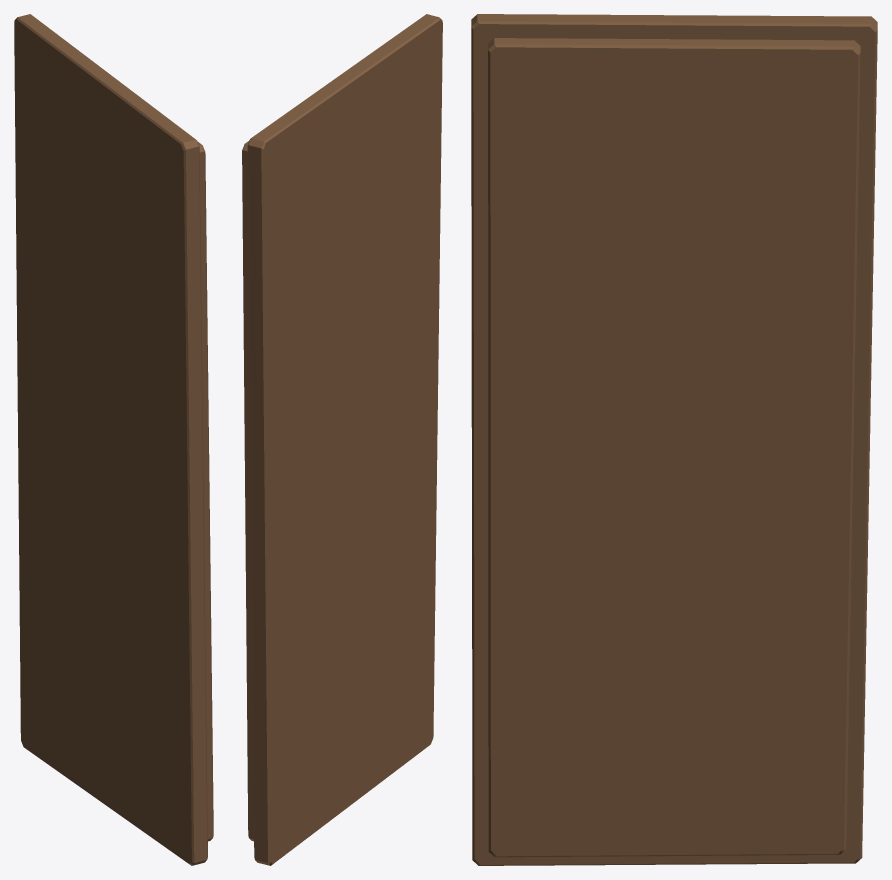
The model's file is ClosetRight.fbx.
The picture shows the model from 3 angles, left to right: view 1: azimuth 30°, elevation 25°; view 2: azimuth 150°, elevation 25°; view 3: azimuth 270°, elevation 25°; orthographic projection. The views are drawn at different scales.
Visible parts, largest first — view 1: ClosetDoorRight; view 2: ClosetDoorRight; view 3: ClosetDoorRight.
Part boxes in pixels (bbox=[...]): ClosetDoorRight: bbox=[14, 14, 213, 865]; ClosetDoorRight: bbox=[242, 14, 442, 865]; ClosetDoorRight: bbox=[471, 14, 877, 865].
Bounding box in the file's own units: 0.4071 × 7.45 × 3.27.
